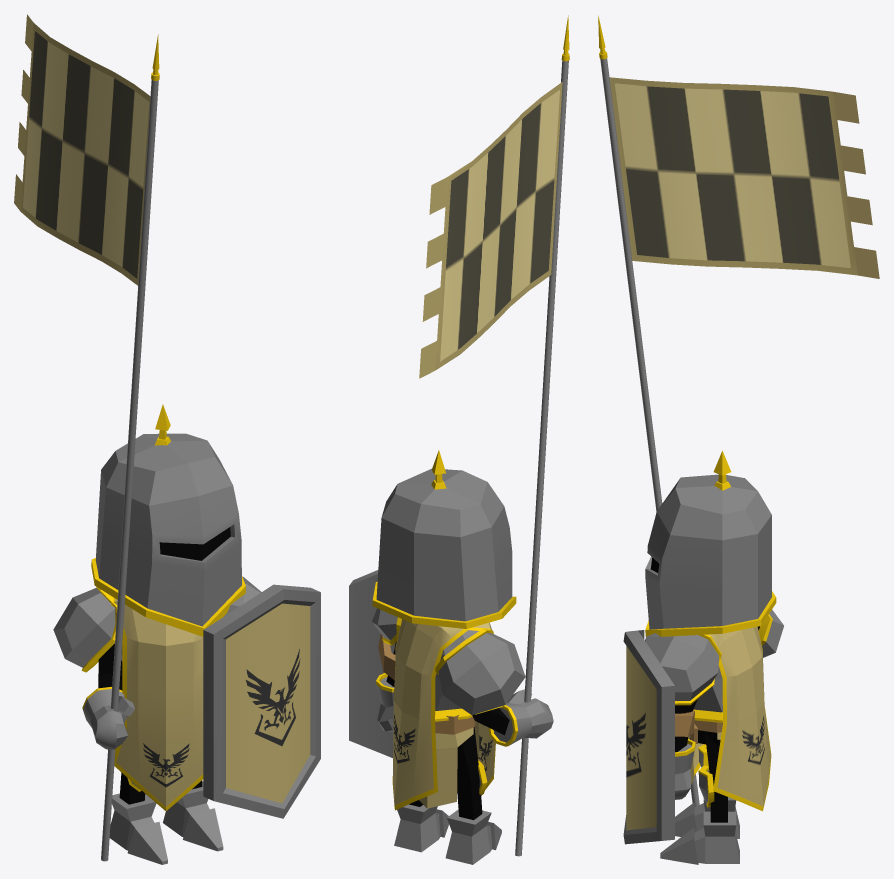
3 views of the same model, side by side, from view 1: azimuth 30°, elevation 25°; view 2: azimuth 150°, elevation 25°; view 3: azimuth 270°, elevation 25° (orthographic). The views are drawn at different scales.
Parts seen in each view (by area): view 1: Soldier_33; view 2: Soldier_33; view 3: Soldier_33.
Boxes of the visible parts, x1=… form: Soldier_33: x1=14, y1=14, x2=320, y2=864; Soldier_33: x1=349, y1=15, x2=569, y2=864; Soldier_33: x1=598, y1=15, x2=879, y2=864.
Bounding box in the file's own units: 1 × 3.77 × 1.2.
Materials: 10 (2 with a texture image).
